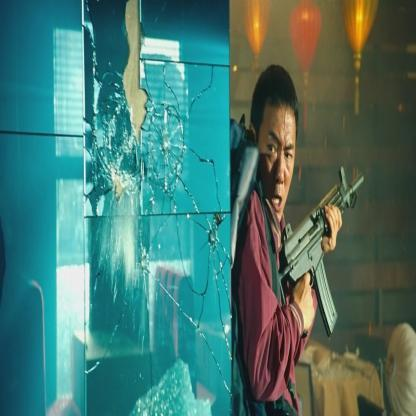gun: (286, 150, 376, 336)
